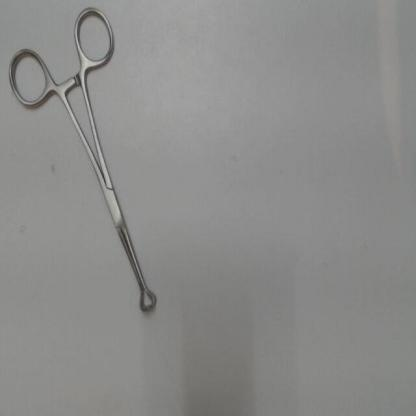Babcock Tissue Forceps: (4, 1, 160, 317)
